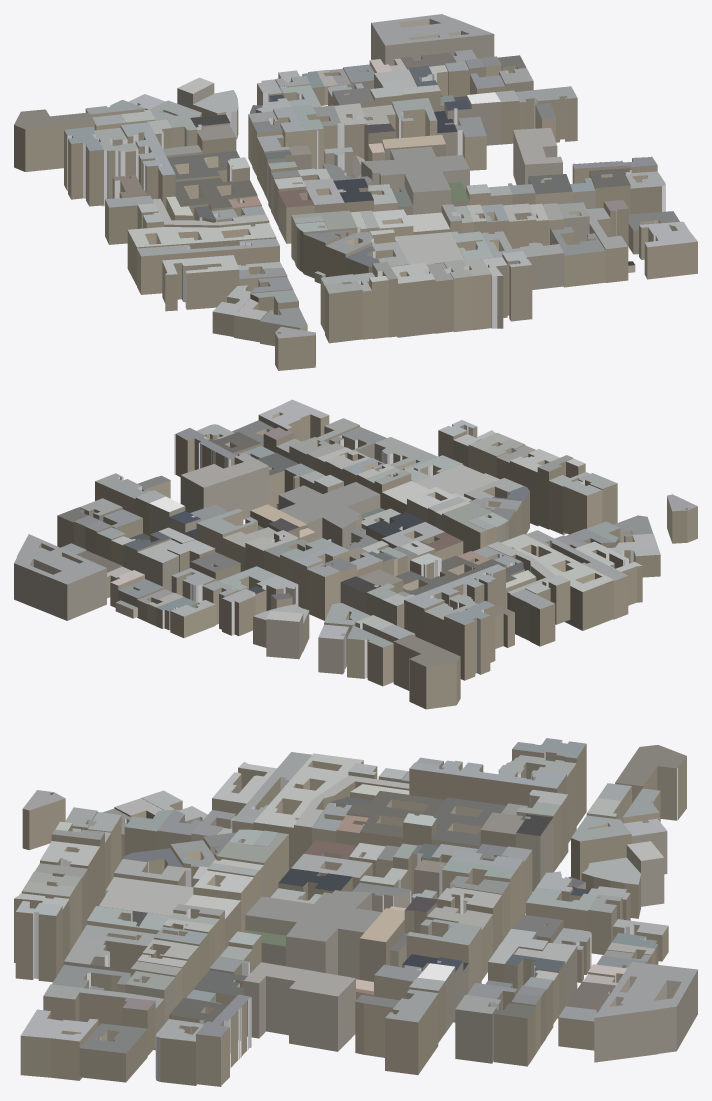
3 views of the same model, one above another, from view 1: azimuth 30°, elevation 25°; view 2: azimuth 150°, elevation 25°; view 3: azimuth 270°, elevation 25° (orthographic). The views are drawn at different scales.
Parts seen in each view (by area): view 1: tuile; view 2: tuile; view 3: tuile.
Part boxes in pixels (x1,y1,x2,y2): tuile: (14,14,697,370); tuile: (14,399,697,709); tuile: (14,738,697,1086).
Bounding box in the file's own units: 280 × 43.44 × 280.
